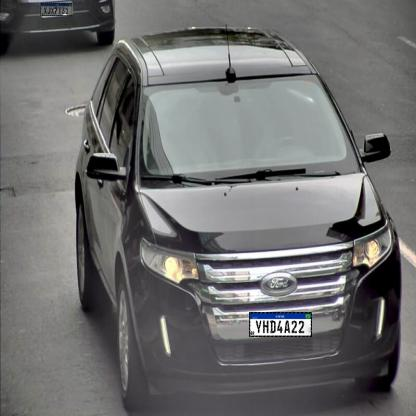PlacaM: (249, 312, 312, 337), (41, 3, 72, 16)
